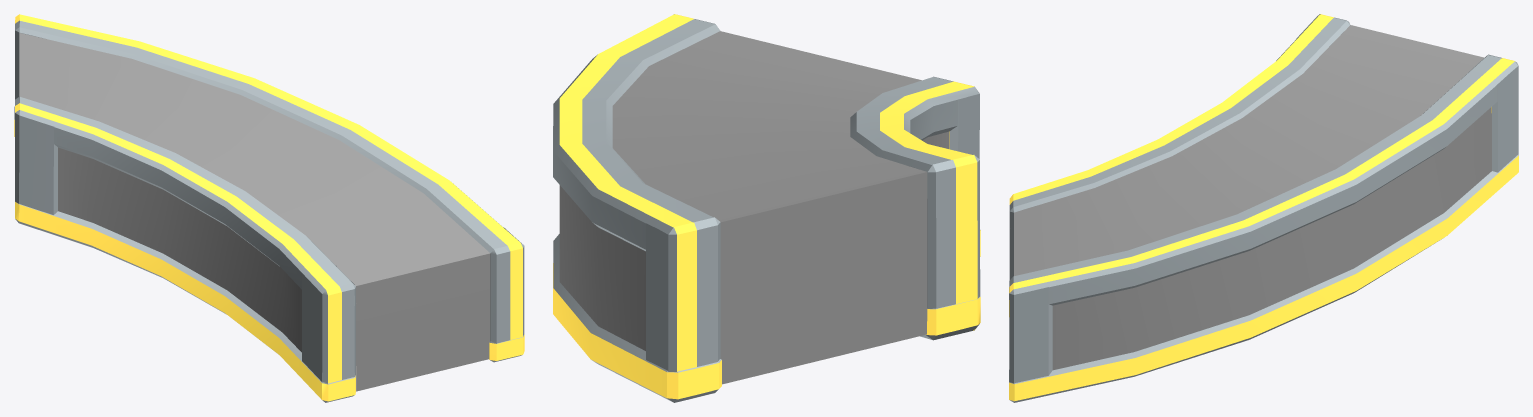
File: SM_60DegreeUpwards_v1_1.fbx
The picture shows the model from 3 angles, left to right: view 1: azimuth 30°, elevation 25°; view 2: azimuth 150°, elevation 25°; view 3: azimuth 270°, elevation 25°; orthographic projection. The views are drawn at different scales.
Visible parts, largest first — view 1: SM_60DegUpwards_HologramMain_v1, SM_60DegUpwards_MainStructure_v1_1, SM_60DegUpwards_HologramInner_v1, SM_60DegUpwards_HologramLower_v1, SM_60DegUpwards_LowerStructure_v1, SM_60DegUpwards_InnerStructure_v1_1, SM_60DegUpwards_UpperStructure_v1, SM_60DegUpwards_HologramMainLower_v1, SM_60DegUpwards_OuterStructure_v1_1; view 2: SM_60DegUpwards_HologramMain_v1, SM_60DegUpwards_HologramUpper_v1, SM_60DegUpwards_MainStructure_v1_1, SM_60DegUpwards_UpperStructure_v1, SM_60DegUpwards_HologramOuter_v1, SM_60DegUpwards_OuterStructure_v1_1, SM_60DegUpwards_InnerStructure_v1_1, SM_60DegUpwards_LowerStructure_v1; view 3: SM_60DegUpwards_HologramMain_v1, SM_60DegUpwards_MainStructure_v1_1, SM_60DegUpwards_HologramOuter_v1, SM_60DegUpwards_OuterStructure_v1_1, SM_60DegUpwards_LowerStructure_v1, SM_60DegUpwards_UpperStructure_v1.
Part boxes in pixels (x1,y1,x2,y2): SM_60DegUpwards_HologramMain_v1: (19, 33, 489, 285); SM_60DegUpwards_MainStructure_v1_1: (19, 14, 520, 305); SM_60DegUpwards_HologramInner_v1: (58, 147, 301, 352); SM_60DegUpwards_HologramLower_v1: (356, 271, 490, 391); SM_60DegUpwards_LowerStructure_v1: (302, 227, 524, 383); SM_60DegUpwards_InnerStructure_v1_1: (15, 202, 355, 402); SM_60DegUpwards_UpperStructure_v1: (15, 14, 57, 222); SM_60DegUpwards_HologramMainLower_v1: (356, 253, 490, 303); SM_60DegUpwards_OuterStructure_v1_1: (14, 106, 524, 362); SM_60DegUpwards_HologramMain_v1: (612, 31, 926, 221); SM_60DegUpwards_HologramUpper_v1: (720, 172, 927, 384); SM_60DegUpwards_MainStructure_v1_1: (553, 14, 979, 251); SM_60DegUpwards_UpperStructure_v1: (646, 155, 980, 371); SM_60DegUpwards_HologramOuter_v1: (559, 185, 645, 350); SM_60DegUpwards_OuterStructure_v1_1: (553, 234, 721, 402); SM_60DegUpwards_InnerStructure_v1_1: (920, 229, 980, 340); SM_60DegUpwards_LowerStructure_v1: (674, 14, 979, 158); SM_60DegUpwards_HologramMain_v1: (1014, 25, 1484, 275); SM_60DegUpwards_MainStructure_v1_1: (1010, 14, 1518, 305); SM_60DegUpwards_HologramOuter_v1: (1052, 107, 1491, 370); SM_60DegUpwards_OuterStructure_v1_1: (1009, 154, 1518, 402); SM_60DegUpwards_LowerStructure_v1: (1009, 194, 1052, 383); SM_60DegUpwards_UpperStructure_v1: (1296, 14, 1518, 172).
Size of what is drawn, in the model's own units: 3.52 by 2.08 by 4.38.
